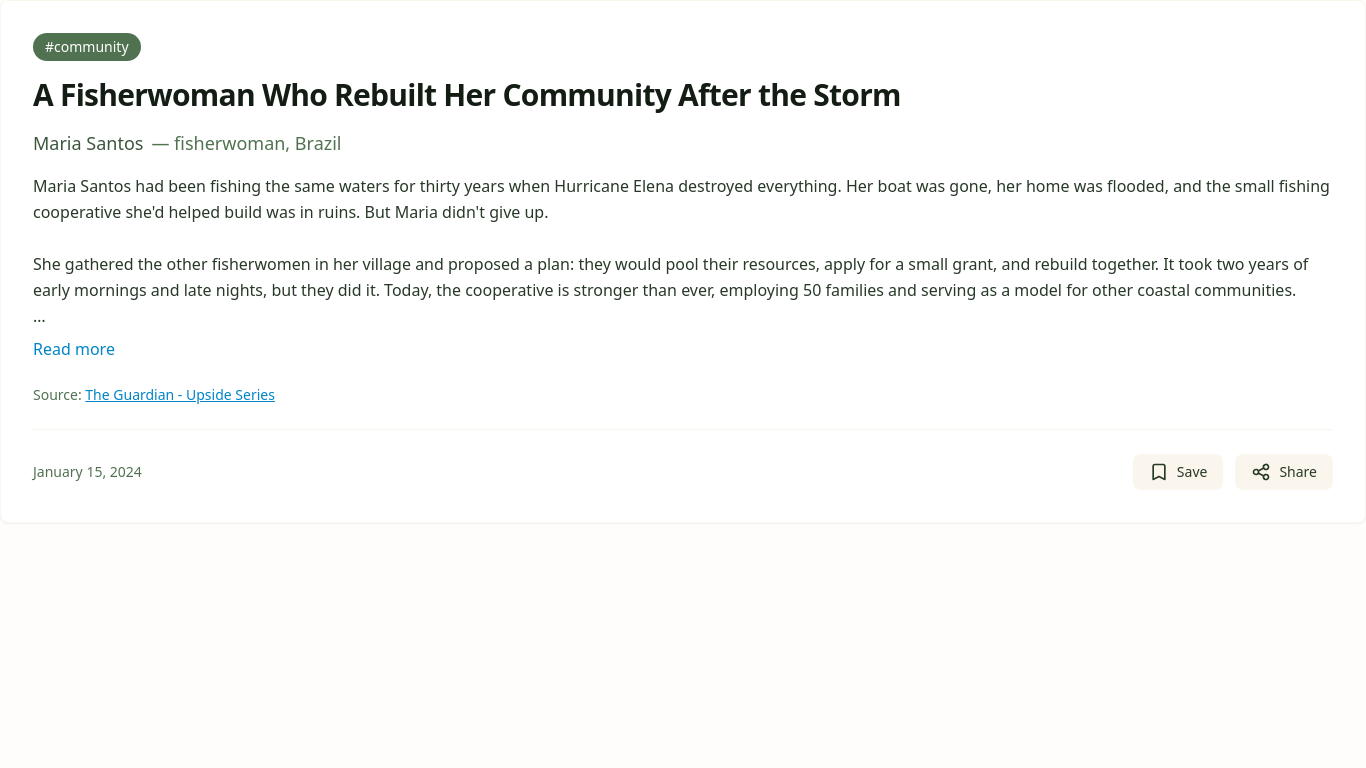
Test case: StoryCard › toggles save state when save button is clicked
The width and height of the screenshot is (1366, 768).
Click the button with aria-label "save story" at (1178, 472), box left=1133, top=454, right=1223, bottom=490
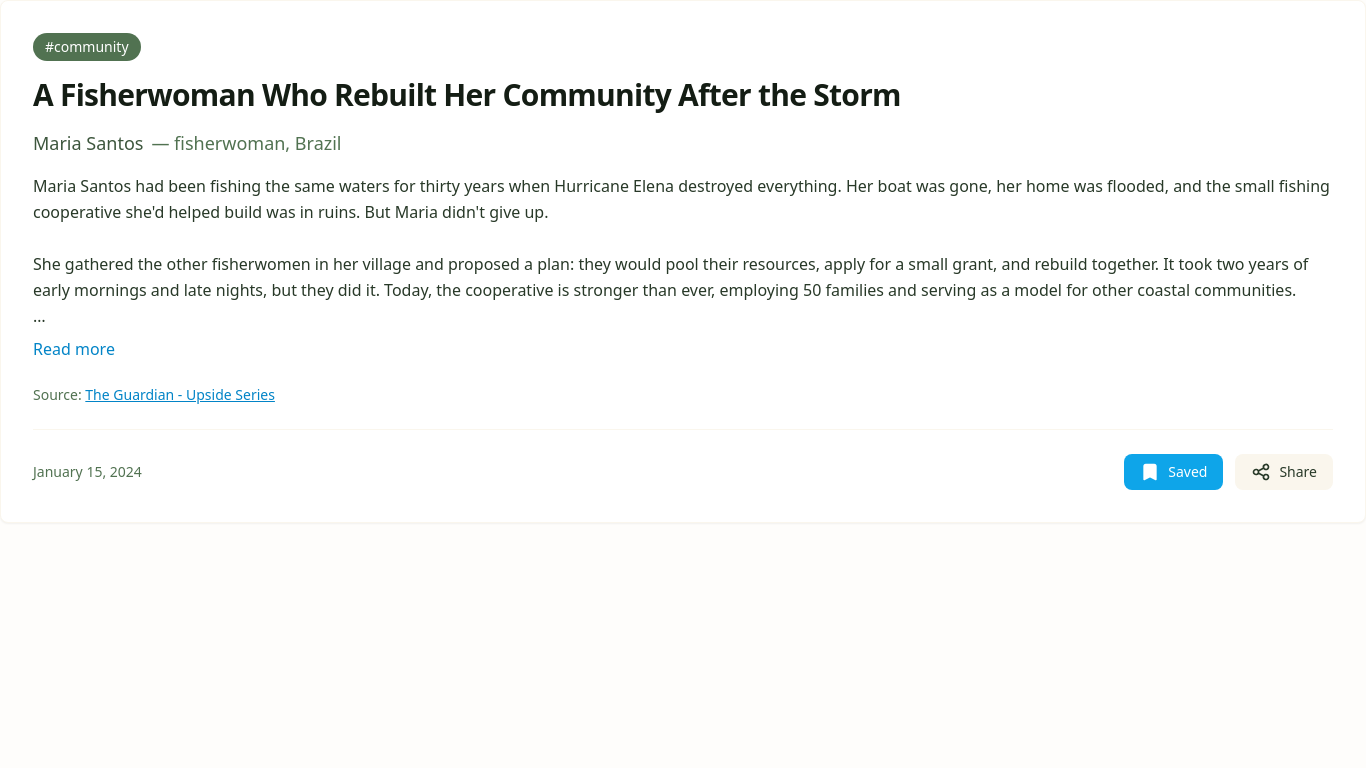
Now the button with aria-label "unsave story" is shown, box left=1124, top=454, right=1223, bottom=490
